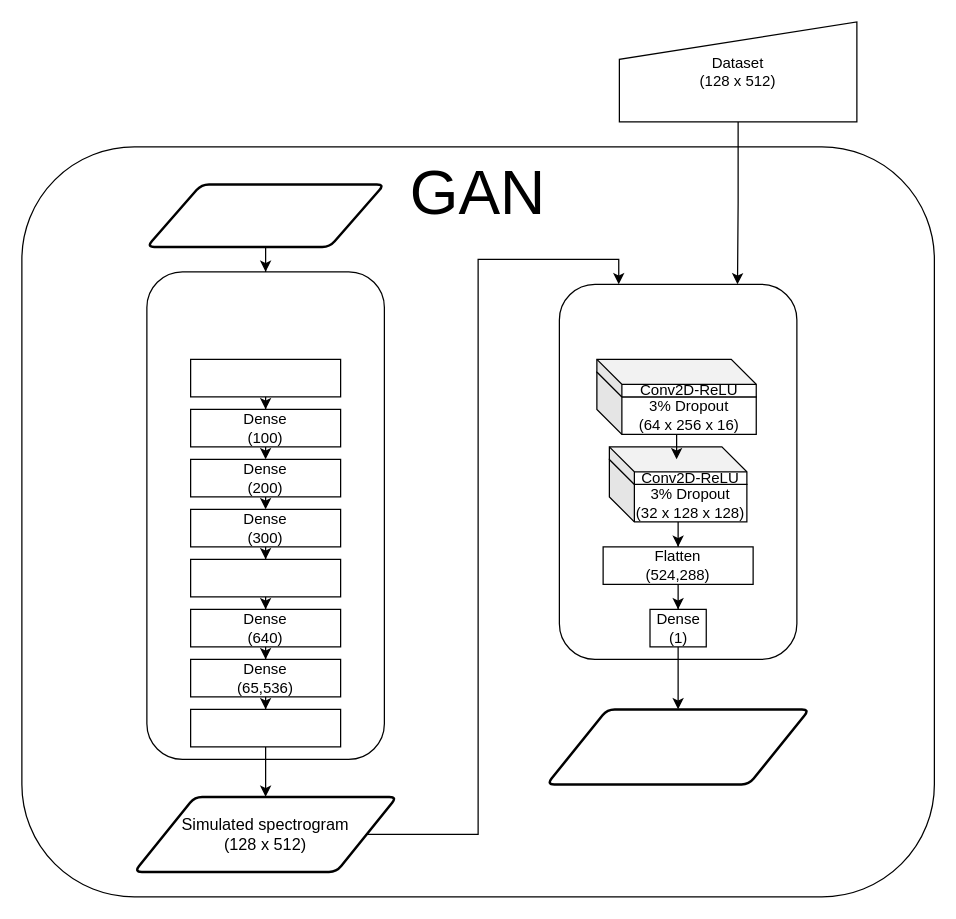
This 956x919 diagram has some shape labels left out. The shapes that lost their labels are listed below. From the top down, each one's box as (x1, y1, x2, y2) in pixels, then its label:
(145, 182, 385, 248): Latent feature vector (128)
(189, 358, 341, 397): Dense (25)
(558, 283, 797, 659): Discriminator
(146, 271, 384, 759): Generator
(189, 558, 341, 597): Dense (400)
(189, 708, 341, 747): Reshape (128 x 512)
(545, 708, 810, 785): Prediction (1)
